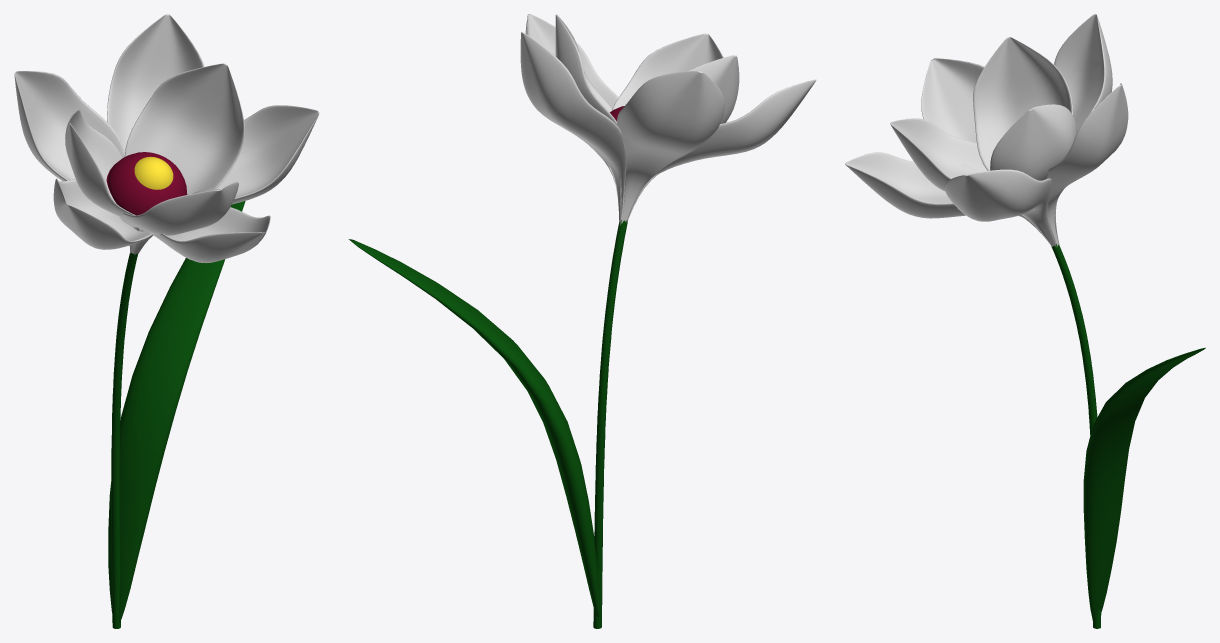
3 views of the same model, side by side, from view 1: azimuth 30°, elevation 25°; view 2: azimuth 150°, elevation 25°; view 3: azimuth 270°, elevation 25° (orthographic). The views are drawn at different scales.
Parts seen in each view (by area): view 1: f09; view 2: f09; view 3: f09.
Boxes of the visible parts, box(x1,y1,x2,y2) form: f09: box(14, 14, 319, 628); f09: box(348, 14, 816, 628); f09: box(845, 14, 1205, 628).
Size of the model in its own units: 2.68 by 4.6 by 2.62.
